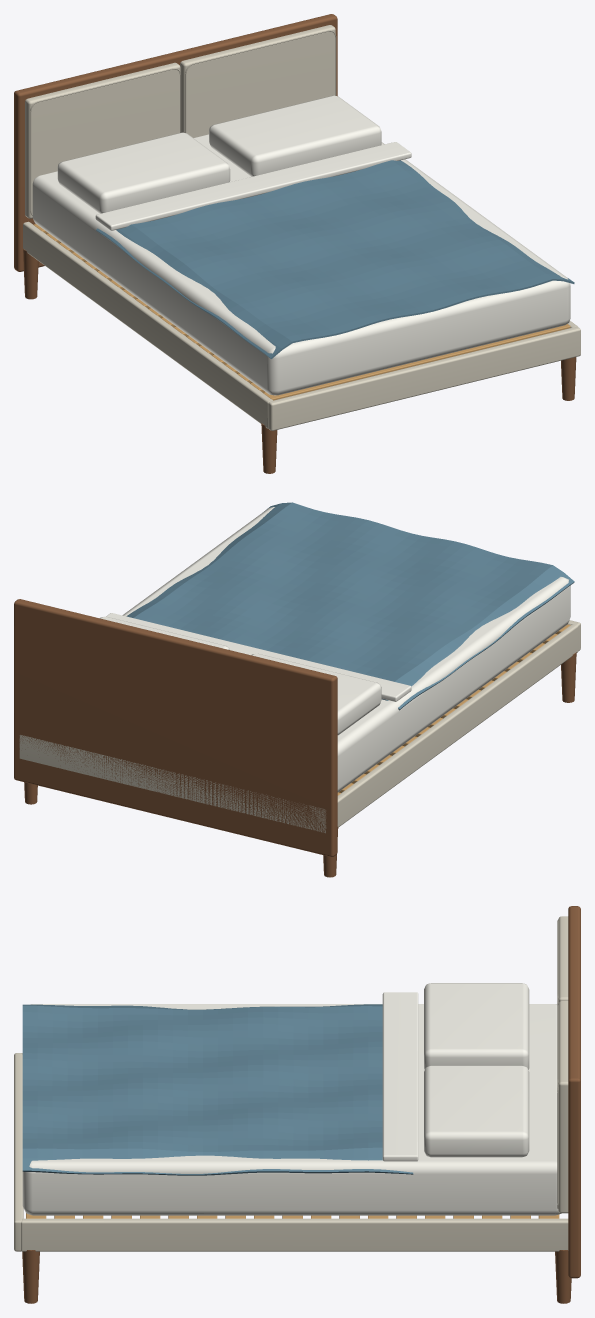
The model's file is apartment-full-linen.glb.
3 views of the same model, one above another, from view 1: azimuth 30°, elevation 25°; view 2: azimuth 150°, elevation 25°; view 3: azimuth 270°, elevation 25° (orthographic). The views are drawn at different scales.
Visible parts, largest first — view 1: apartment-full-linen authored assembly; view 2: apartment-full-linen authored assembly; view 3: apartment-full-linen authored assembly.
Boxes of the visible parts, x1,y1,x2,y2 form: apartment-full-linen authored assembly: (14,14,580,473); apartment-full-linen authored assembly: (14,502,580,877); apartment-full-linen authored assembly: (14,906,580,1303).
Bounding box in the file's own units: 1.45 × 0.88 × 1.99.
